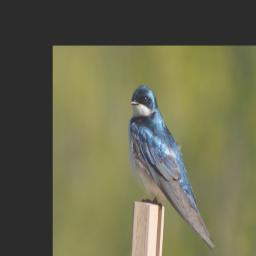Swallow: (126, 81, 215, 254)
